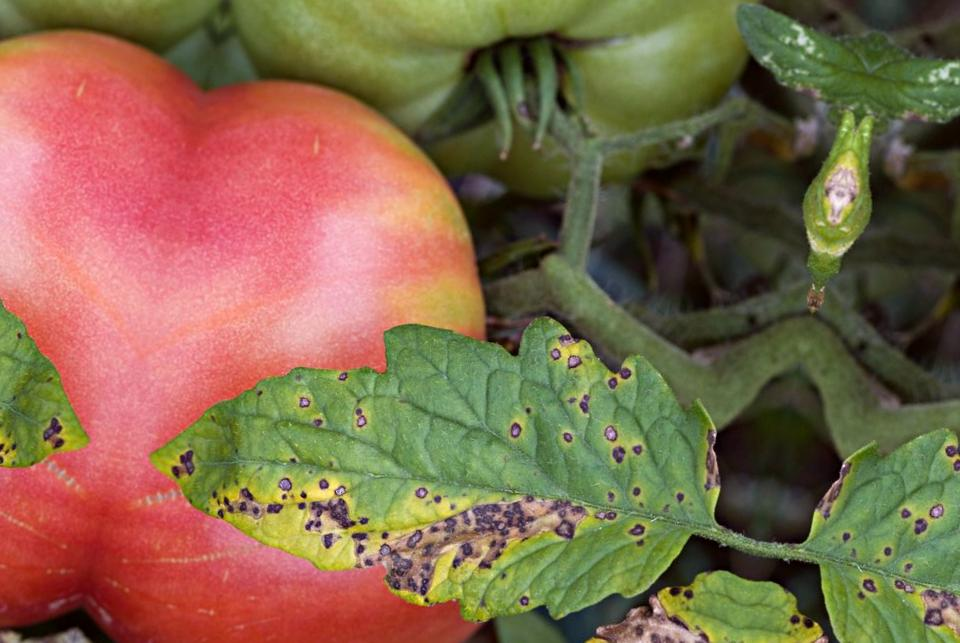Tomato Septoria leaf spot: (136, 263, 751, 643), (524, 539, 745, 643)
